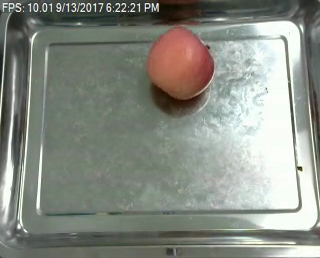Apple: (144, 23, 218, 102)
